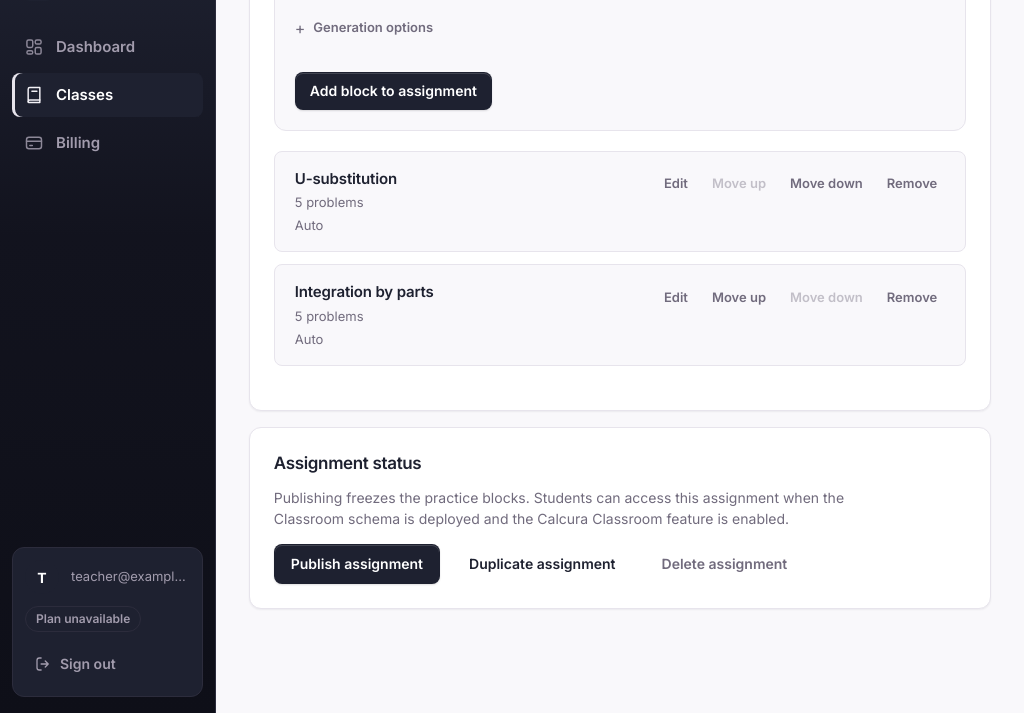
Test case: teacher assignment workflow › reorders and removes draft practice blocks through the builder
(page scrolled)
Click the button "Move up" in the row of "Integration by parts" at point(739, 297), box [704,281,774,313]
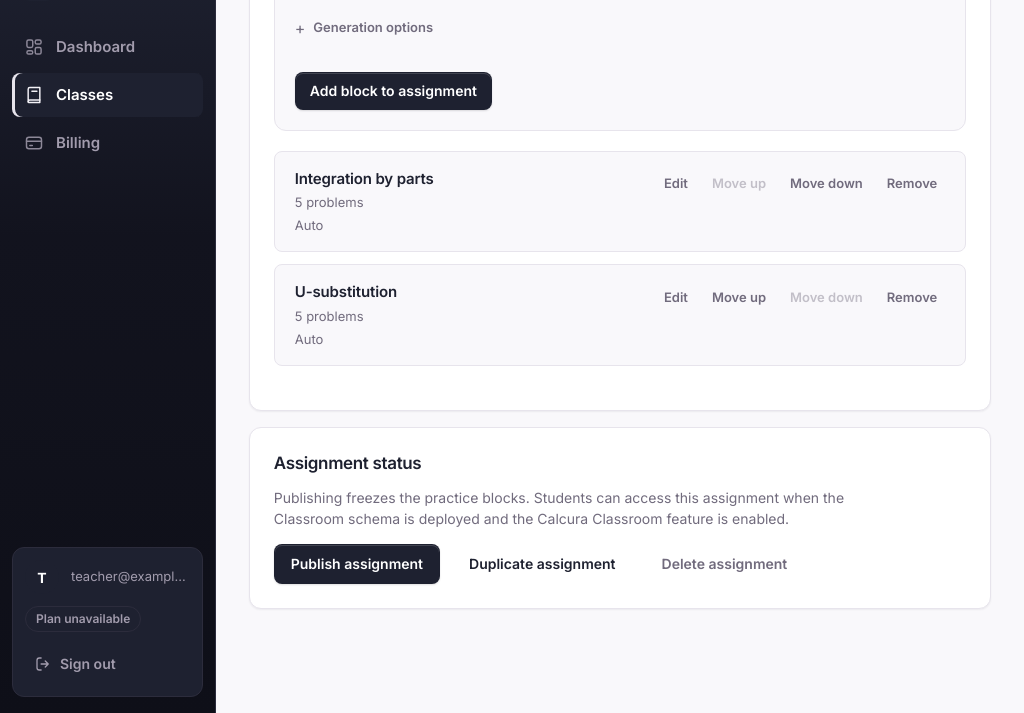
Click the button "Remove" in the row of "Integration by parts" at point(912, 184), box [879,168,945,200]
(page scrolled)
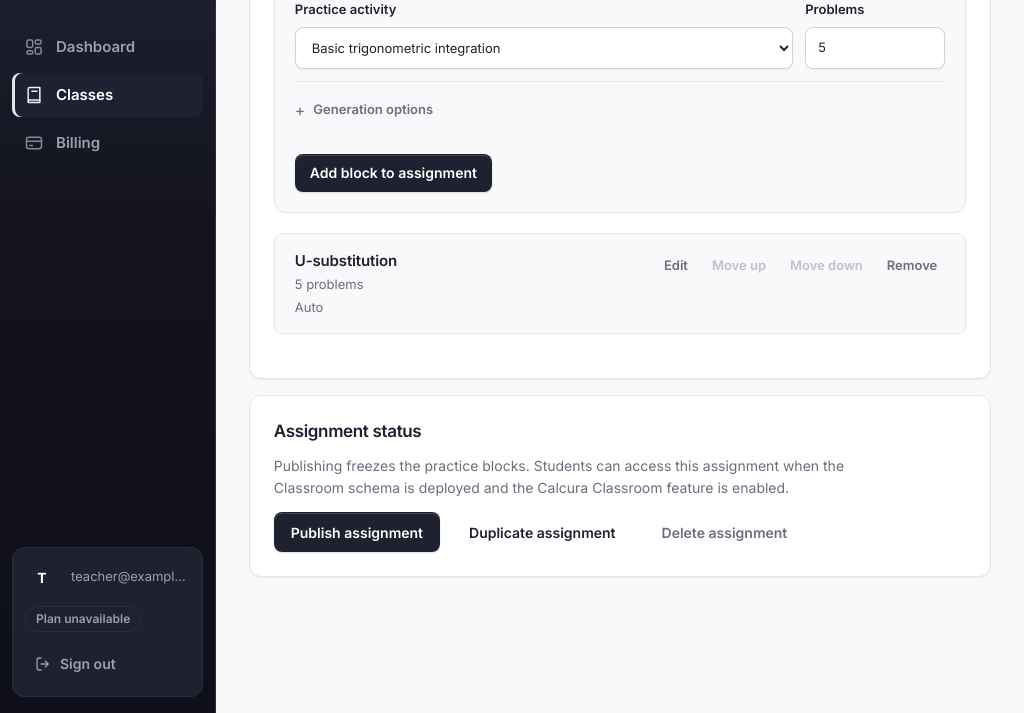
Expected: the number of list items is 1, [274,233,966,334]
